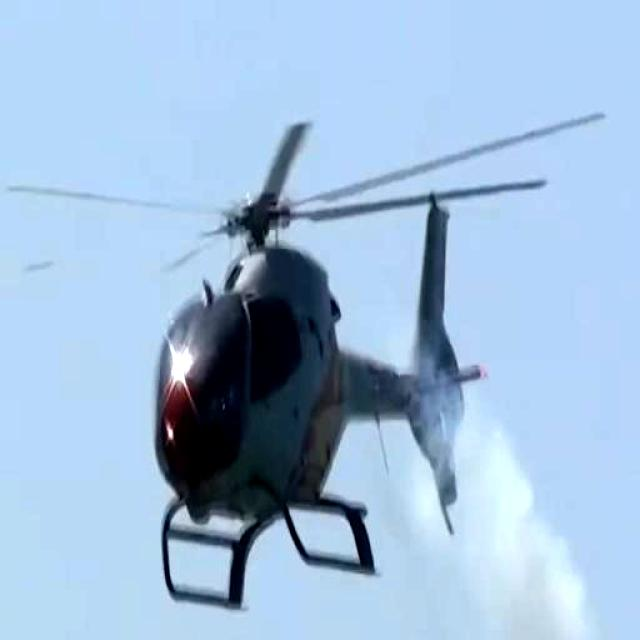drone: (56, 101, 595, 636)
